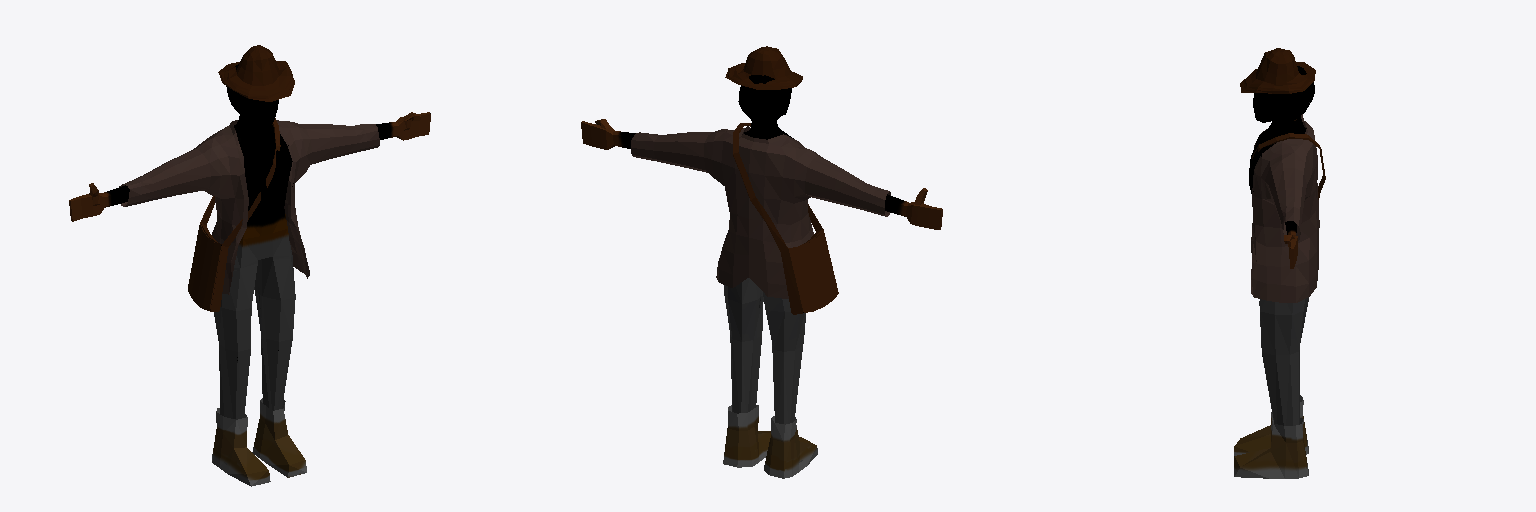
3 views of the same model, side by side, from view 1: azimuth 30°, elevation 25°; view 2: azimuth 150°, elevation 25°; view 3: azimuth 270°, elevation 25° (orthographic).
Parts seen in each view (by area): view 1: Default_Body_Cube, Jacket_Cube.004, Default_Body.001_Cube.001, MessengerBag_Circle, Hat_Cube.005; view 2: Jacket_Cube.004, Default_Body_Cube, MessengerBag_Circle, Default_Body.001_Cube.001, Hat_Cube.005; view 3: Jacket_Cube.004, Default_Body_Cube, Default_Body.001_Cube.001, Hat_Cube.005.
Boxes of the visible parts, x1=… form: Default_Body_Cube: x1=69, y1=64, x2=430, y2=464; Jacket_Cube.004: x1=119, y1=120, x2=379, y2=294; Default_Body.001_Cube.001: x1=212, y1=398, x2=306, y2=486; MessengerBag_Circle: x1=188, y1=118, x2=280, y2=311; Hat_Cube.005: x1=218, y1=45, x2=294, y2=101; Jacket_Cube.004: x1=631, y1=126, x2=890, y2=298; Default_Body_Cube: x1=581, y1=75, x2=942, y2=462; MessengerBag_Circle: x1=733, y1=123, x2=838, y2=314; Default_Body.001_Cube.001: x1=723, y1=405, x2=817, y2=478; Hat_Cube.005: x1=725, y1=46, x2=802, y2=89; Jacket_Cube.004: x1=1251, y1=114, x2=1319, y2=302; Default_Body_Cube: x1=1249, y1=66, x2=1314, y2=425; Default_Body.001_Cube.001: x1=1234, y1=395, x2=1308, y2=478; Hat_Cube.005: x1=1240, y1=48, x2=1315, y2=93.
Size of the model in its own units: 5.22 by 5.74 by 1.15.
5 materials, 5 textured.